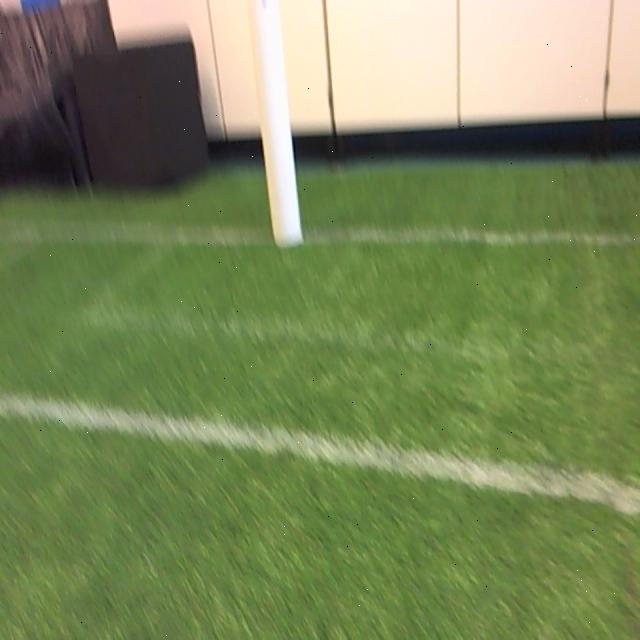goalpost: (248, 0, 304, 243)
